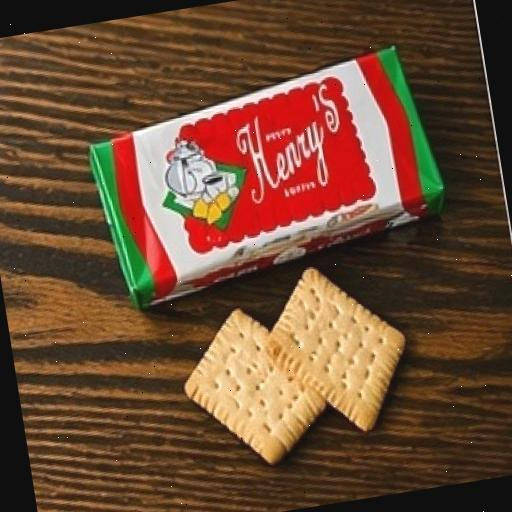golden: (32, 17, 490, 369)
